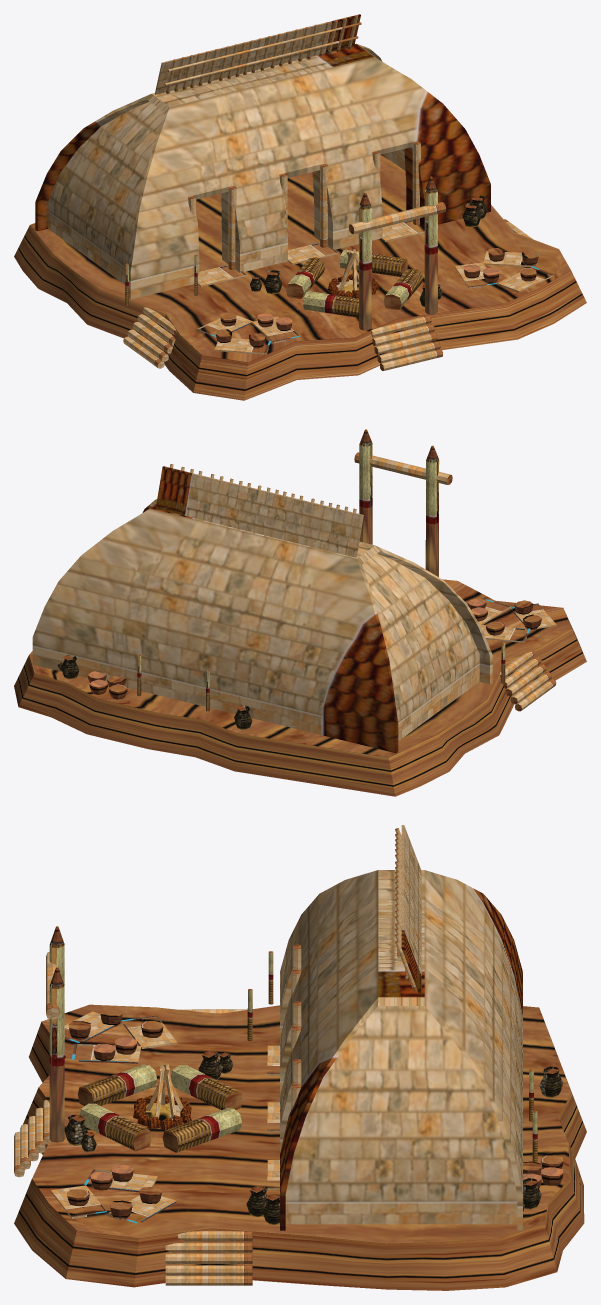
3 renders of one model, top to bottom at view 1: azimuth 30°, elevation 25°; view 2: azimuth 150°, elevation 25°; view 3: azimuth 270°, elevation 25°, orthographic. The views are drawn at different scales.
Parts seen in each view (by area): view 1: cc; view 2: cc; view 3: cc.
Part boxes in pixels (box(x1,y1,x2,y2)): cc: box(14, 14, 586, 400); cc: box(14, 429, 586, 796); cc: box(14, 825, 586, 1290).
Size of the model in its own units: 34.96 by 32.76 by 17.39.
